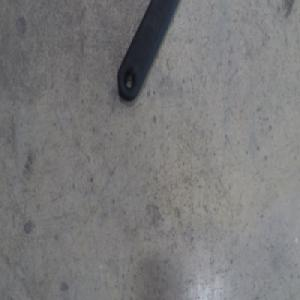AdjustableWrench: (117, 0, 178, 100)
